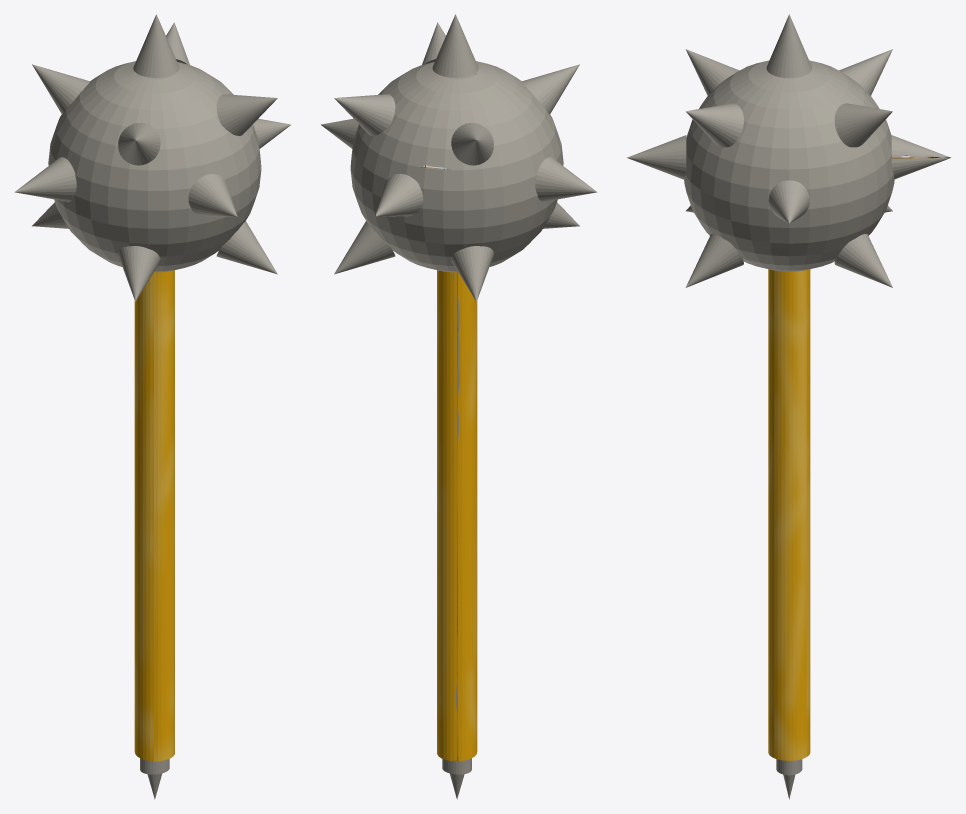
Rendered from hammer.obj.
3 renders of one model, left to right at view 1: azimuth 30°, elevation 25°; view 2: azimuth 150°, elevation 25°; view 3: azimuth 270°, elevation 25°, orthographic.
Visible parts, largest first — view 1: 円錐; view 2: 円錐; view 3: 円錐.
Boxes of the visible parts, x1=… form: 円錐: x1=14, y1=14, x2=290, y2=799; 円錐: x1=321, y1=14, x2=597, y2=799; 円錐: x1=627, y1=14, x2=950, y2=799.
Size of the model in its own units: 1.5 by 4.06 by 1.52.
Materials: 1 (1 with a texture image).
